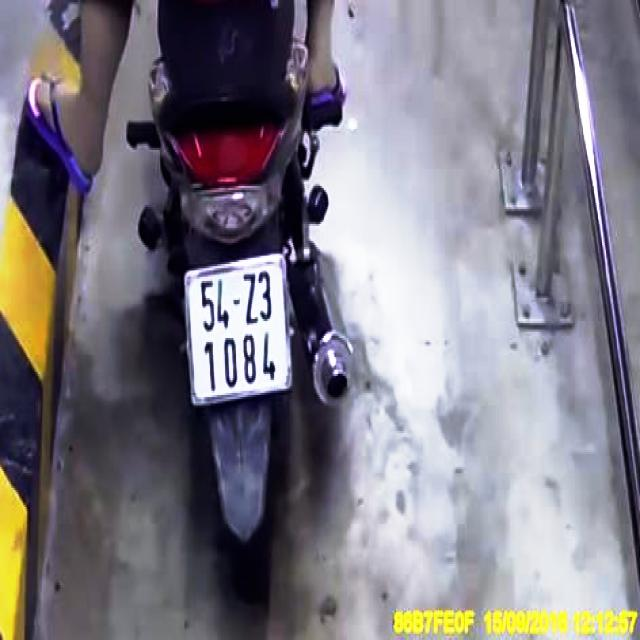license_plate: (189, 263, 290, 401)
